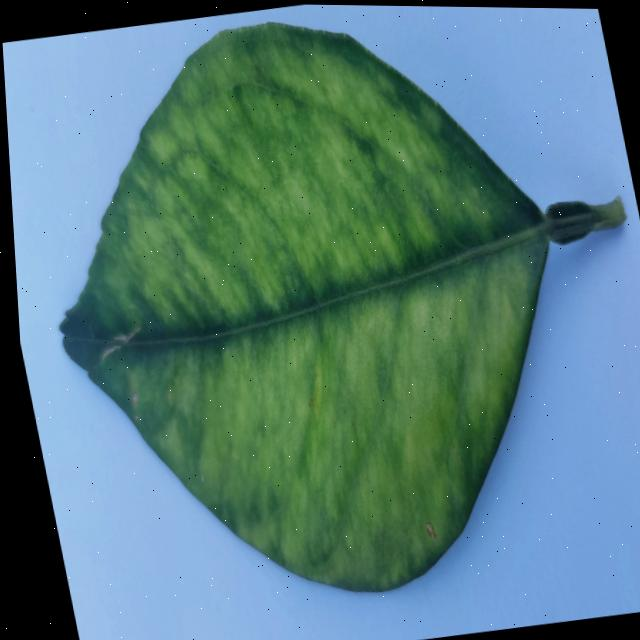greening: (61, 24, 623, 590)
